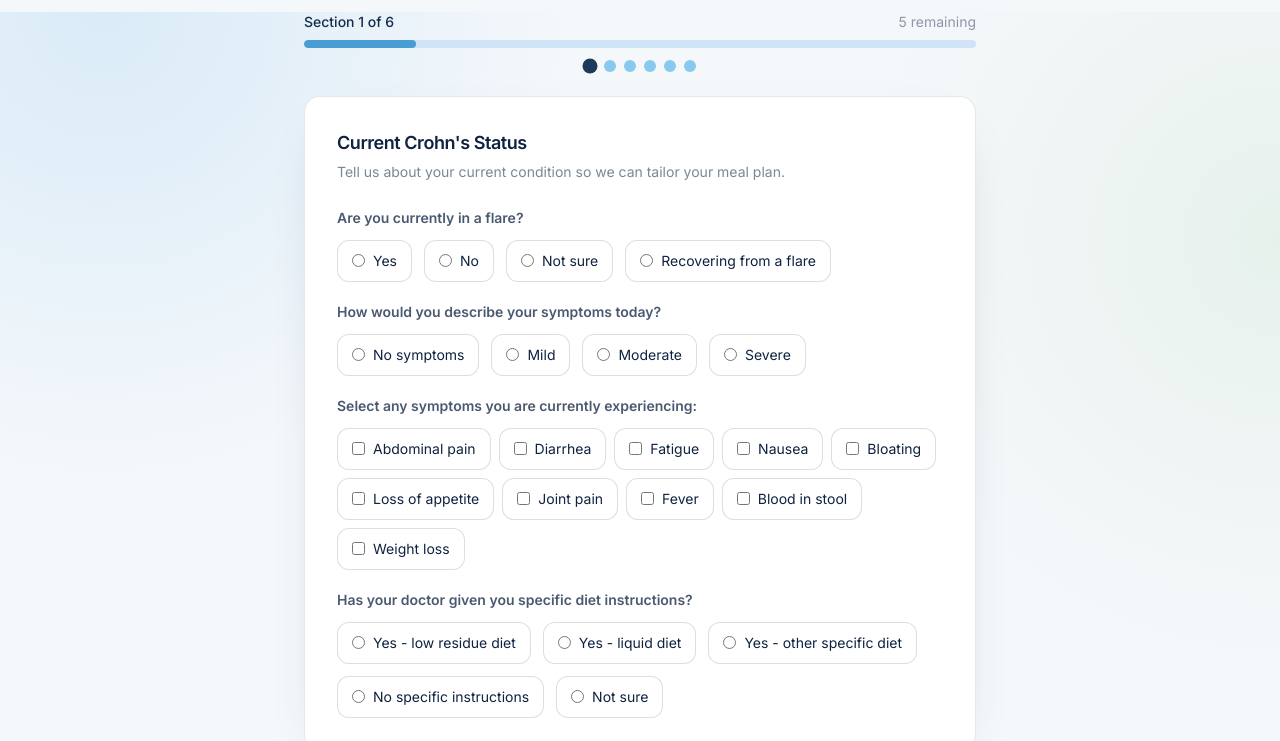
Scenario: QuizFlow › allows clicking navigation dots to jump to sections
// Click on a later section dot
Click the button named "Go to Food Tolerance (completed)" at (630, 66), box [624,60,636,72]
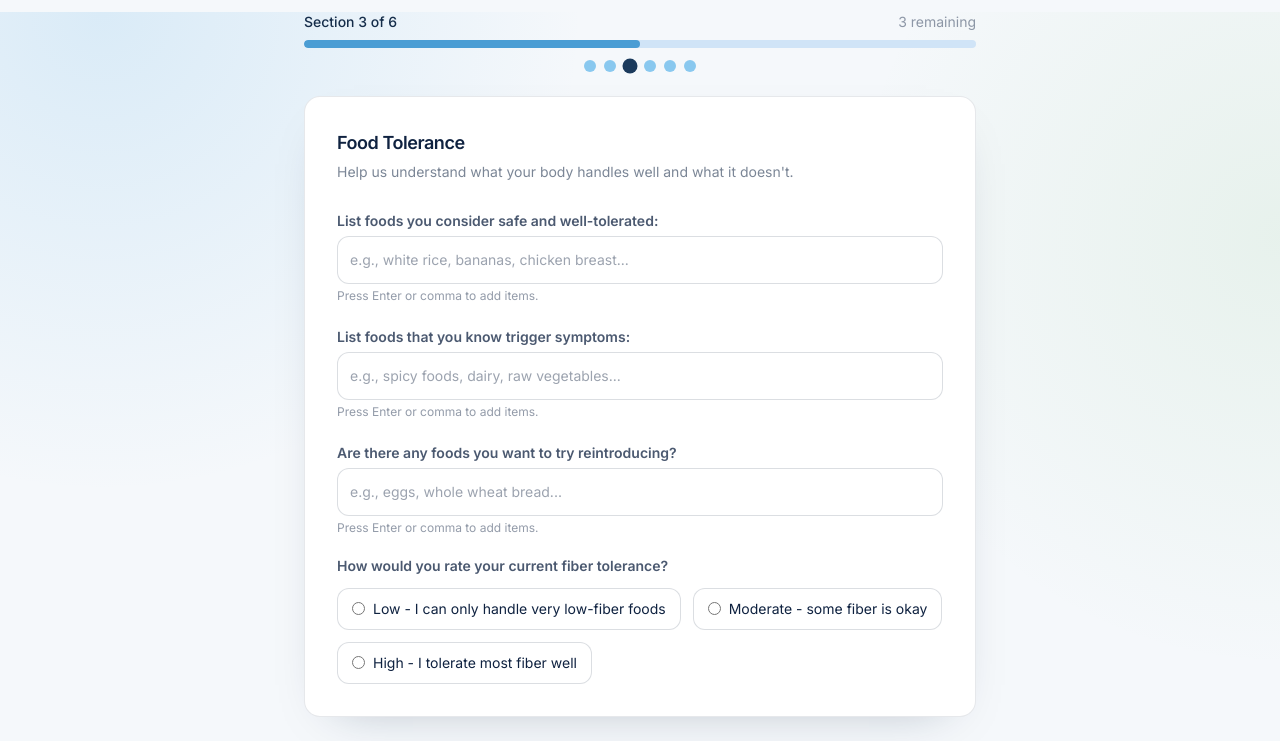
Check: the text "Section 3 of 6" is shown, box [304,12,397,32]
Check: the heading "Food Tolerance" is shown, box [337,132,465,153]
